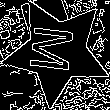M_E: (30, 26, 85, 77)
